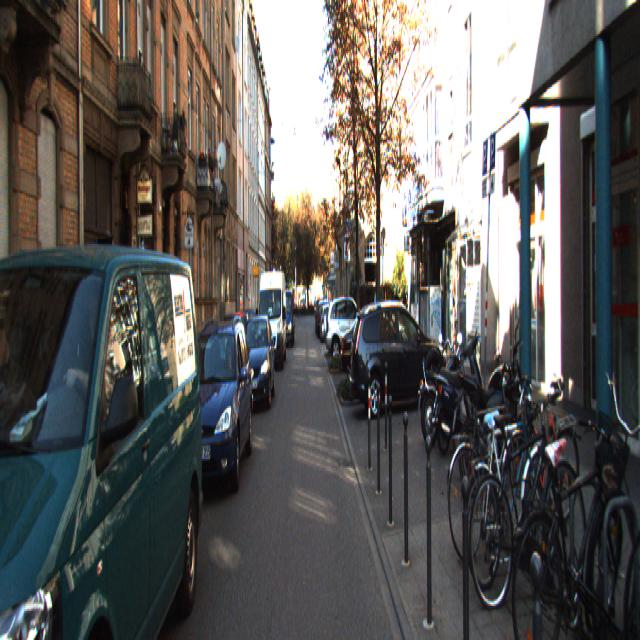Car: (0, 171, 208, 638), (172, 314, 254, 514), (452, 332, 541, 499), (349, 294, 447, 421), (434, 324, 488, 458), (340, 301, 417, 390), (237, 313, 275, 417), (325, 296, 376, 366), (256, 267, 287, 375), (276, 288, 296, 350)
